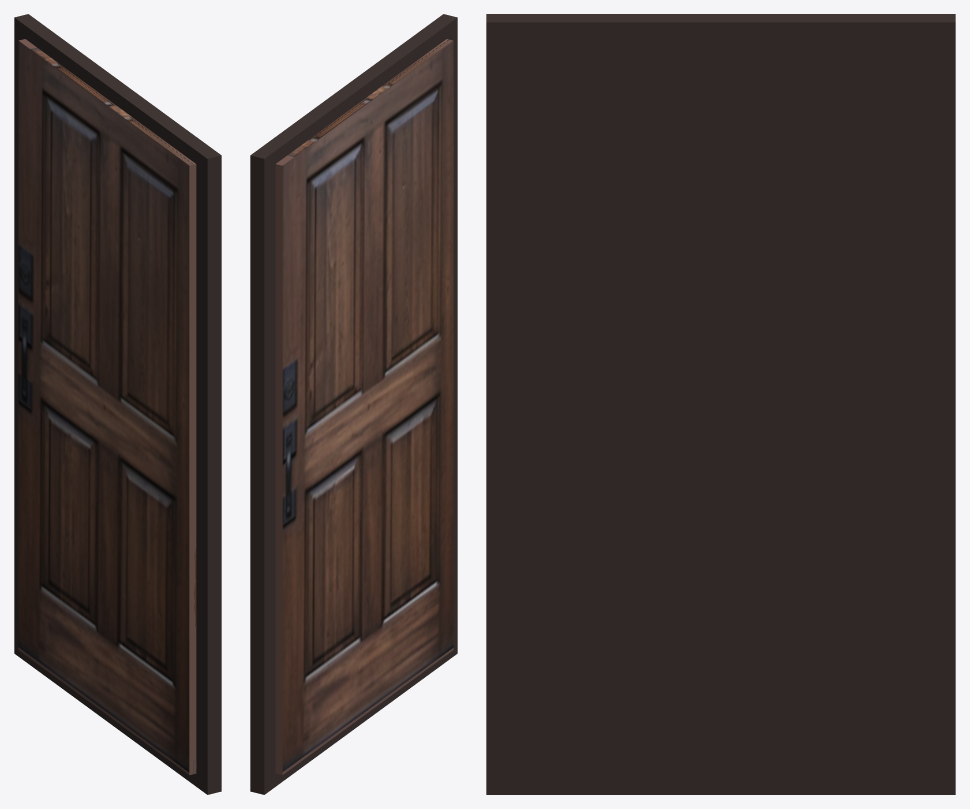
File: FunHouseDoor.fbx
The picture shows the model from 3 angles, left to right: view 1: azimuth 30°, elevation 25°; view 2: azimuth 150°, elevation 25°; view 3: azimuth 270°, elevation 25°; orthographic projection. The views are drawn at different scales.
Visible parts, largest first — view 1: Cube, Cube.001; view 2: Cube, Cube.001; view 3: Cube.001.
Part boxes in pixels (x1,y1,x2,y2): Cube: [18, 39, 196, 775]; Cube.001: [14, 14, 221, 794]; Cube: [275, 39, 453, 775]; Cube.001: [250, 14, 457, 794]; Cube.001: [486, 14, 955, 794].
Bounding box in the file's own units: 25.65 × 737 × 406.
